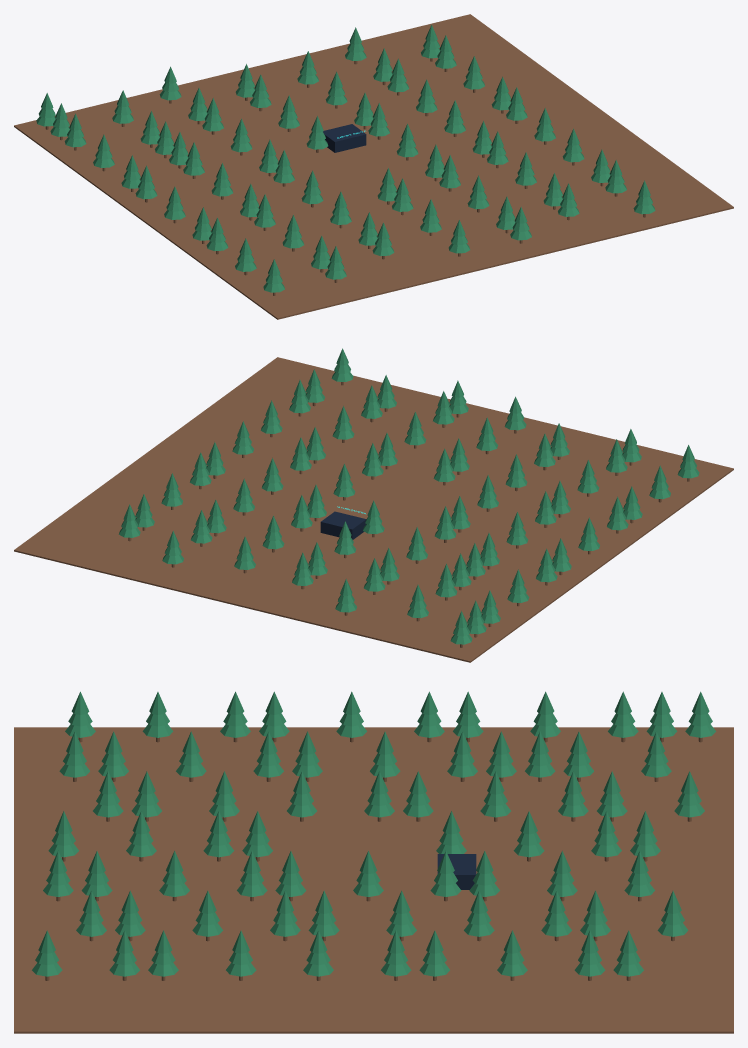
The model's file is ENV_Biome_black-forest_scene_20261005.glb.
3 renders of one model, top to bottom at view 1: azimuth 30°, elevation 25°; view 2: azimuth 150°, elevation 25°; view 3: azimuth 270°, elevation 25°, orthographic. The views are drawn at different scales.
Visible parts, largest first — view 1: BIOME_Floor.001, BIOME_RangerHut.001; view 2: BIOME_Floor.001, BIOME_RangerHut.001; view 3: BIOME_Floor.001, BIOME_RangerHut.001.
Boxes of the visible parts, x1,y1,x2,y2 form: BIOME_Floor.001: [14, 14, 733, 319]; BIOME_RangerHut.001: [323, 124, 366, 152]; BIOME_Floor.001: [14, 357, 733, 662]; BIOME_RangerHut.001: [320, 511, 366, 539]; BIOME_Floor.001: [14, 727, 733, 1033]; BIOME_RangerHut.001: [437, 854, 476, 889].
Size of the model in its own units: 130 by 10.4 by 130.
